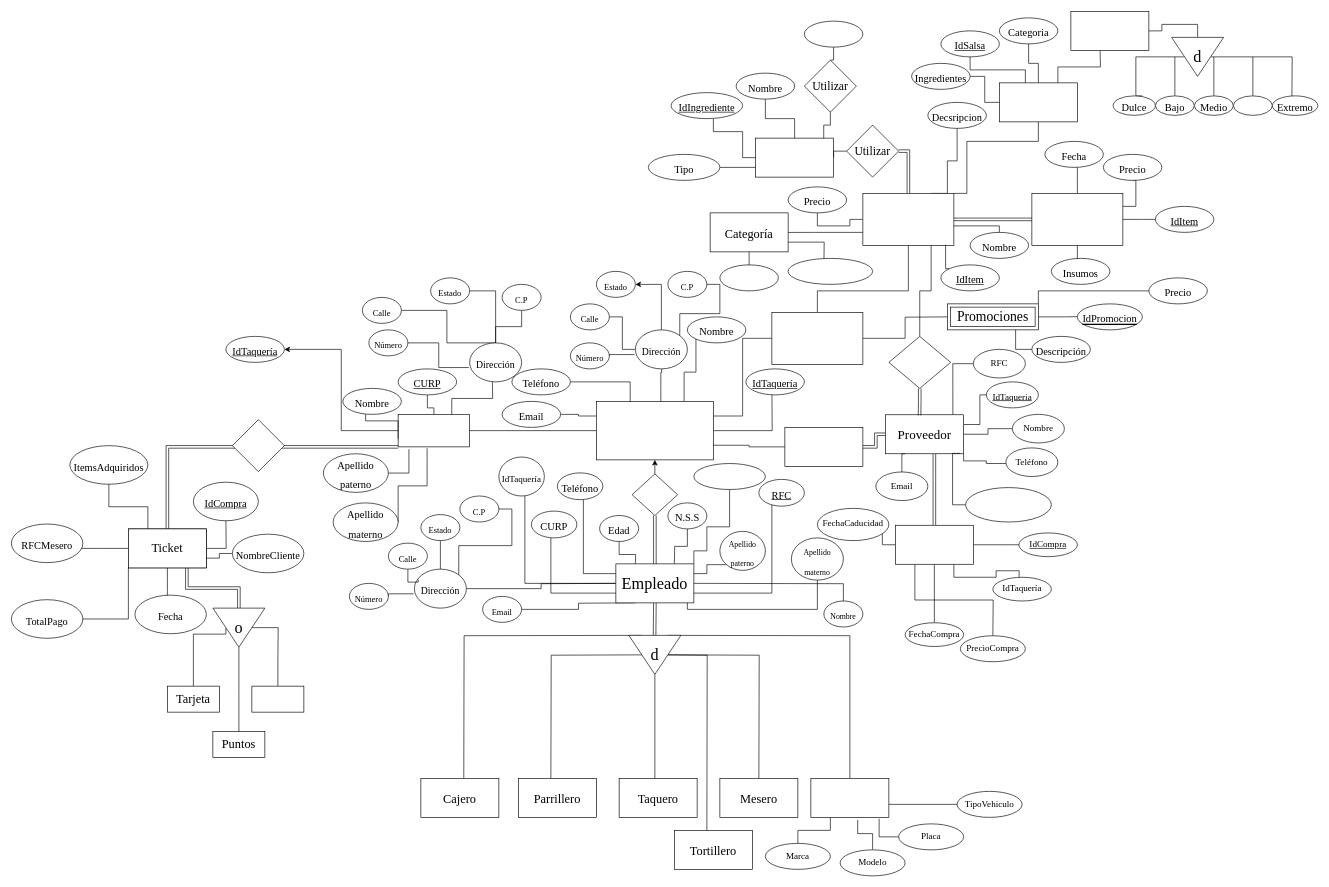
Image size: 1329x887. Some labels were removed from this diagram. Each missing label, with the centre of its shape:
"Alto" goes at point (1252, 105).
"Antigüedad" goes at point (729, 476).
"Cantidad" goes at point (833, 33).
"Cliente" goes at point (433, 430).
"Compra" goes at point (934, 544).
"DescripcionServicio" goes at point (1008, 504).
"Efectivo" goes at point (277, 698).
"IdCategoria" goes at point (748, 277).
"Ingrediente" goes at point (794, 157).
"Inventario" goes at point (823, 446).
"Item" goes at point (908, 219).
"Menú" goes at point (817, 338).
"NombreCategoria" goes at point (830, 271).
"Picor" goes at point (1109, 30).
"Poseer" goes at point (258, 445).
"Provee" goes at point (919, 362).
"RegistroHistorico" goes at point (1077, 219).
"Repartidor" goes at point (849, 797).
"Salsa" goes at point (1038, 102).
"Taquería" goes at point (654, 430).
"Trabajar" goes at point (654, 494).
